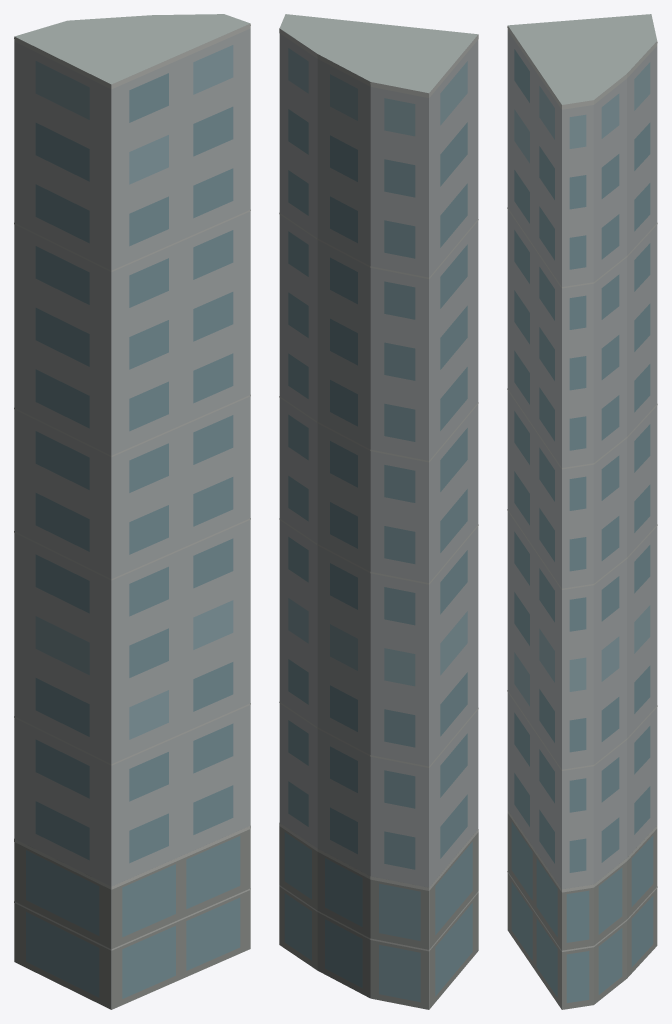
File: survey-upis-32811669.glb
3 renders of one model, left to right at view 1: azimuth 30°, elevation 25°; view 2: azimuth 150°, elevation 25°; view 3: azimuth 270°, elevation 25°, orthographic. The views are drawn at different scales.
Visible parts, largest first — view 1: survey-upis-32811669.tmp; view 2: survey-upis-32811669.tmp; view 3: survey-upis-32811669.tmp.
Part boxes in pixels (left/top/right/bottom): survey-upis-32811669.tmp: left=14, top=14, right=250, bottom=1009; survey-upis-32811669.tmp: left=279, top=14, right=478, bottom=1009; survey-upis-32811669.tmp: left=507, top=14, right=657, bottom=1009.
Size of the model in its own units: 9.89 by 45.75 by 6.88.
